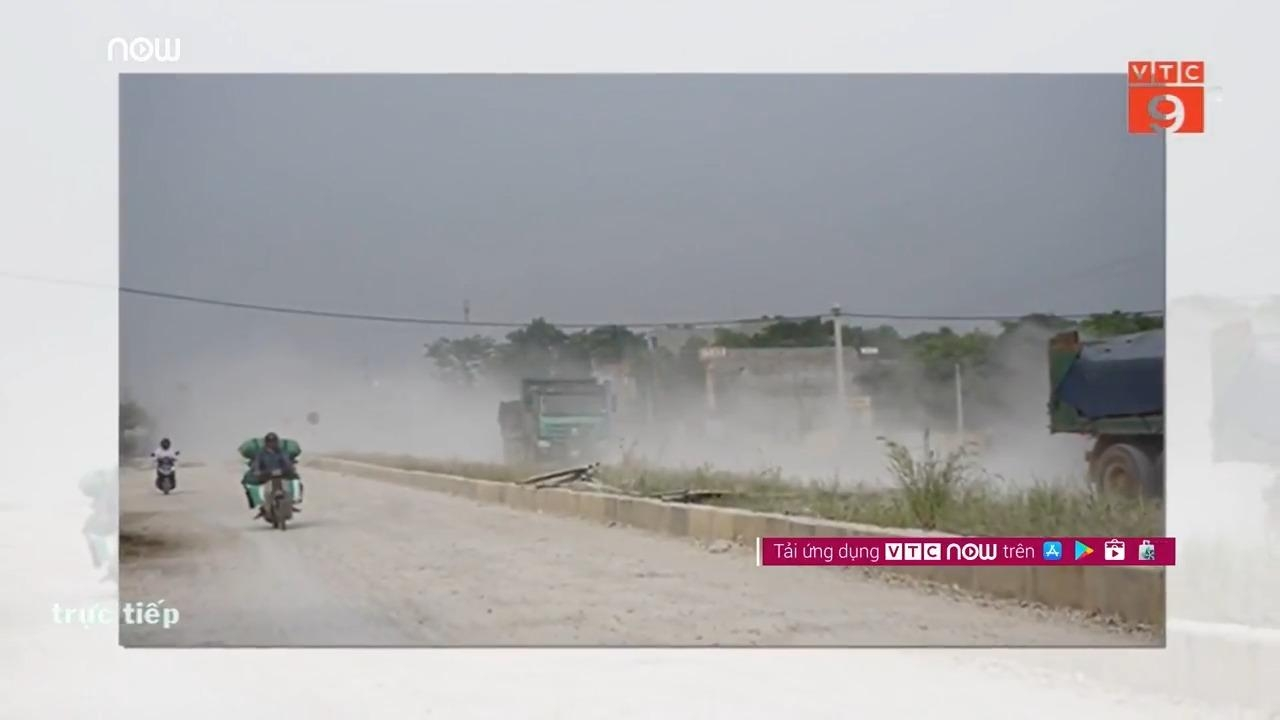motorcycle: (242, 455, 303, 530), (149, 449, 180, 495)
truck: (1046, 325, 1165, 505), (496, 374, 617, 466)
